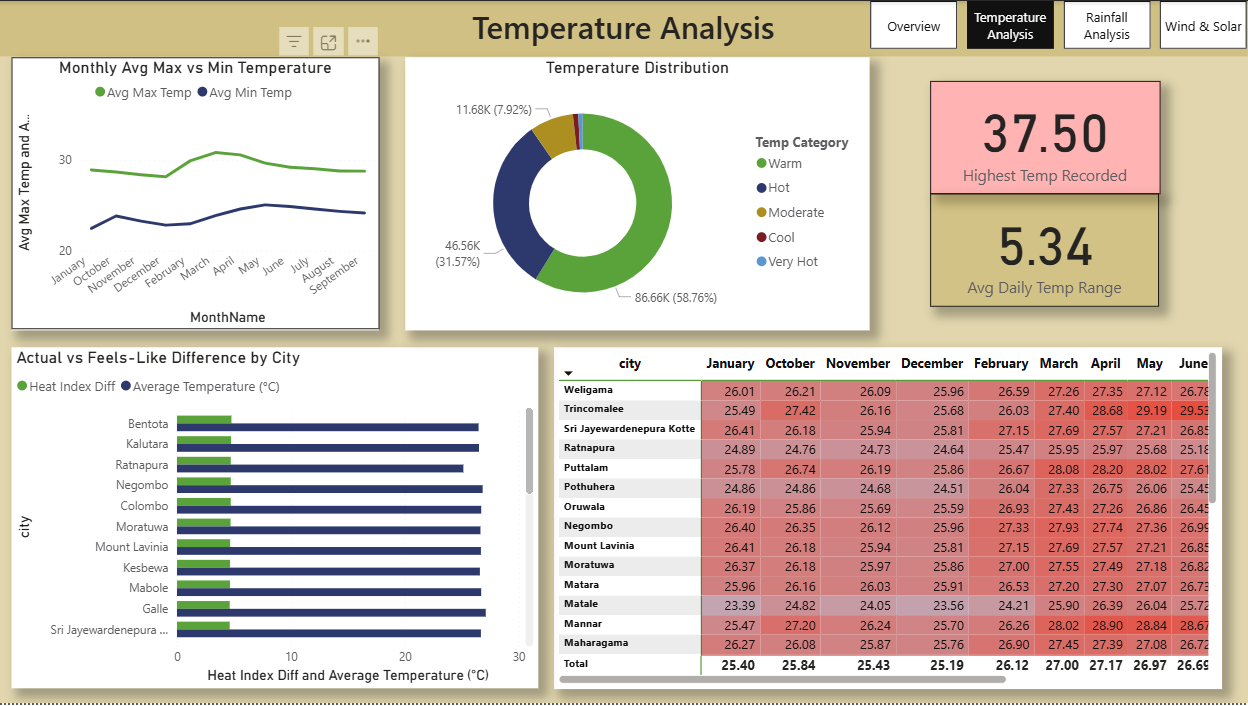

This screenshot's page, from the dashboard's own definition file:
{"tool":"powerbi","page":{"name":"Temperature Analysis","canvas":[1280,720],"ordinal":1},"visuals":[{"type":"lineChart","title":"Monthly Avg Max vs Min Temperature","fields":{"Category":["SriLanka_Weather_in_Years.MonthName"],"Y":["DateTable.Avg Max Temp","DateTable.Avg Min Temp"]},"box":[12.9,57.1,377.1,280],"z":0},{"type":"pivotTable","fields":{"Rows":["SriLanka_Weather_in_Years.city"],"Columns":["SriLanka_Weather_in_Years.MonthName"],"Values":["DateTable.Average Temperature (°C)"]},"box":[569,355.2,684.5,350],"z":1000},{"type":"clusteredBarChart","title":"Actual vs Feels-Like Difference by City","fields":{"Category":["SriLanka_Weather_in_Years.city"],"Y":["DateTable.Heat Index Diff","DateTable.Average Temperature (°C)"]},"box":[13.3,354.7,540,349.3],"z":2000},{"type":"card","title":"Highest Temp Ever","fields":{"Values":["DateTable.Highest Temp Recorded"]},"box":[954.3,81.4,235.7,115.7],"z":3000},{"type":"card","fields":{"Values":["DateTable.Temp Range"]},"box":[954.7,197.3,234.7,116],"z":4000},{"type":"donutChart","title":"Temperature Distribution","fields":{"Category":["SriLanka_Weather_in_Years.Temp Category"],"Y":["CountNonNull(SriLanka_Weather_in_Years.time)"]},"box":[416,57.3,476,280],"z":5000},{"type":"textbox","box":[0,0,1280,57.1],"z":6000},{"type":"pageNavigator","box":[892.9,0,387.5,50],"z":6001}]}

Visuals, with their boxes in screenshot pixels (x1, y1, x2, y2), scaled from the page's 1280x720 canvas onto the 1248x706 screenshot:
"Monthly Avg Max vs Min Temperature" lineChart: bbox=(13, 56, 380, 331)
pivotTable - SriLanka_Weather_in_Years.city x SriLanka_Weather_in_Years.MonthName: bbox=(555, 348, 1222, 691)
"Actual vs Feels-Like Difference by City" clusteredBarChart: bbox=(13, 348, 539, 690)
"Highest Temp Ever" card: bbox=(930, 80, 1160, 193)
card - DateTable.Temp Range: bbox=(931, 193, 1160, 307)
"Temperature Distribution" donutChart: bbox=(406, 56, 870, 331)
textbox: bbox=(0, 0, 1247, 56)
pageNavigator: bbox=(871, 0, 1247, 49)
